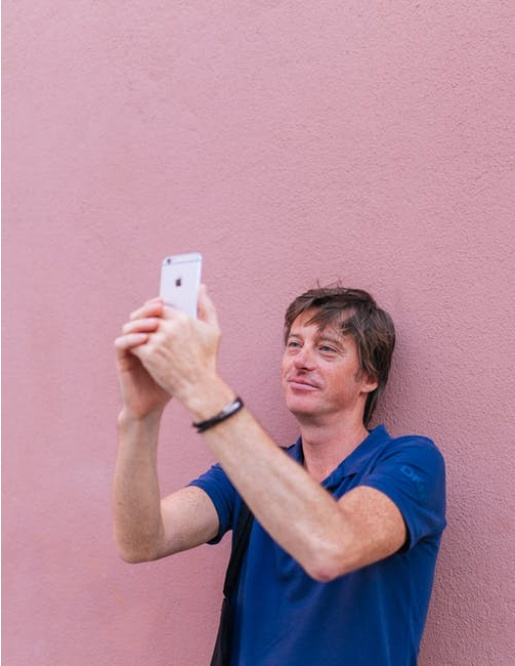face: (280, 317, 356, 413)
